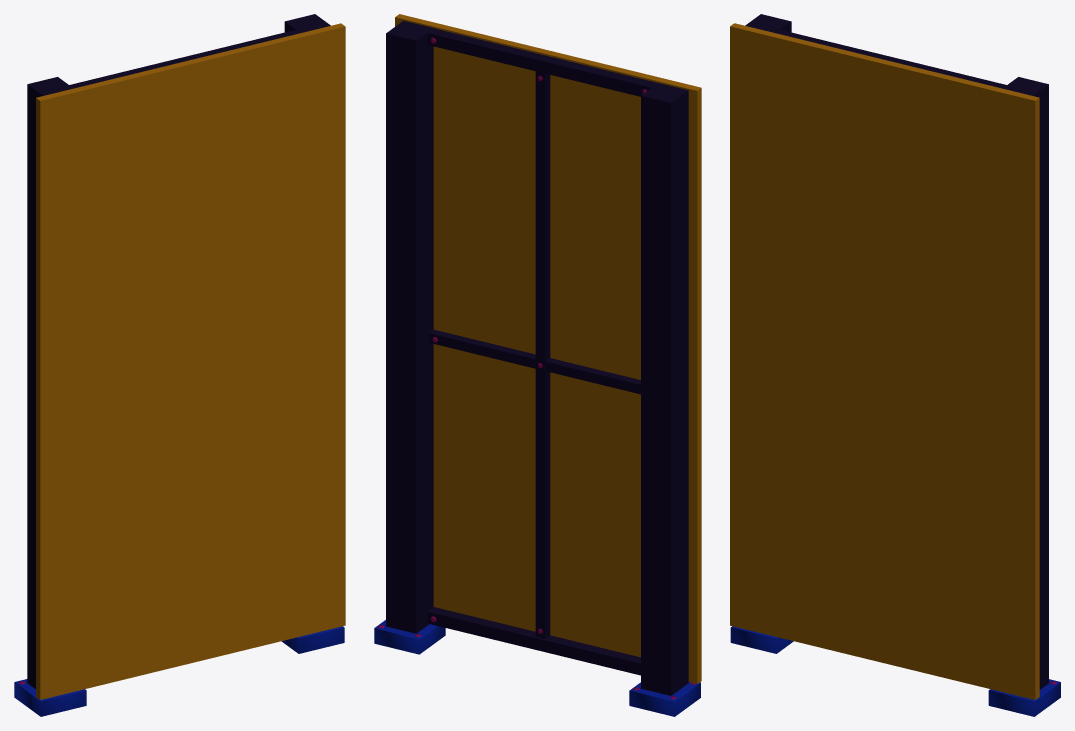
File: Barricade Vol 1.FBX
3 renders of one model, left to right at view 1: azimuth 30°, elevation 25°; view 2: azimuth 150°, elevation 25°; view 3: azimuth 330°, elevation 25°, orthographic.
Visible parts, largest first — view 1: Box003; view 2: Box003; view 3: Box003.
Part boxes in pixels (<box>): Box003: <box>14,14,345,716</box>; Box003: <box>374,14,701,716</box>; Box003: <box>730,14,1060,716</box>.
Bounding box in the file's own units: 80 × 154 × 12.04.
